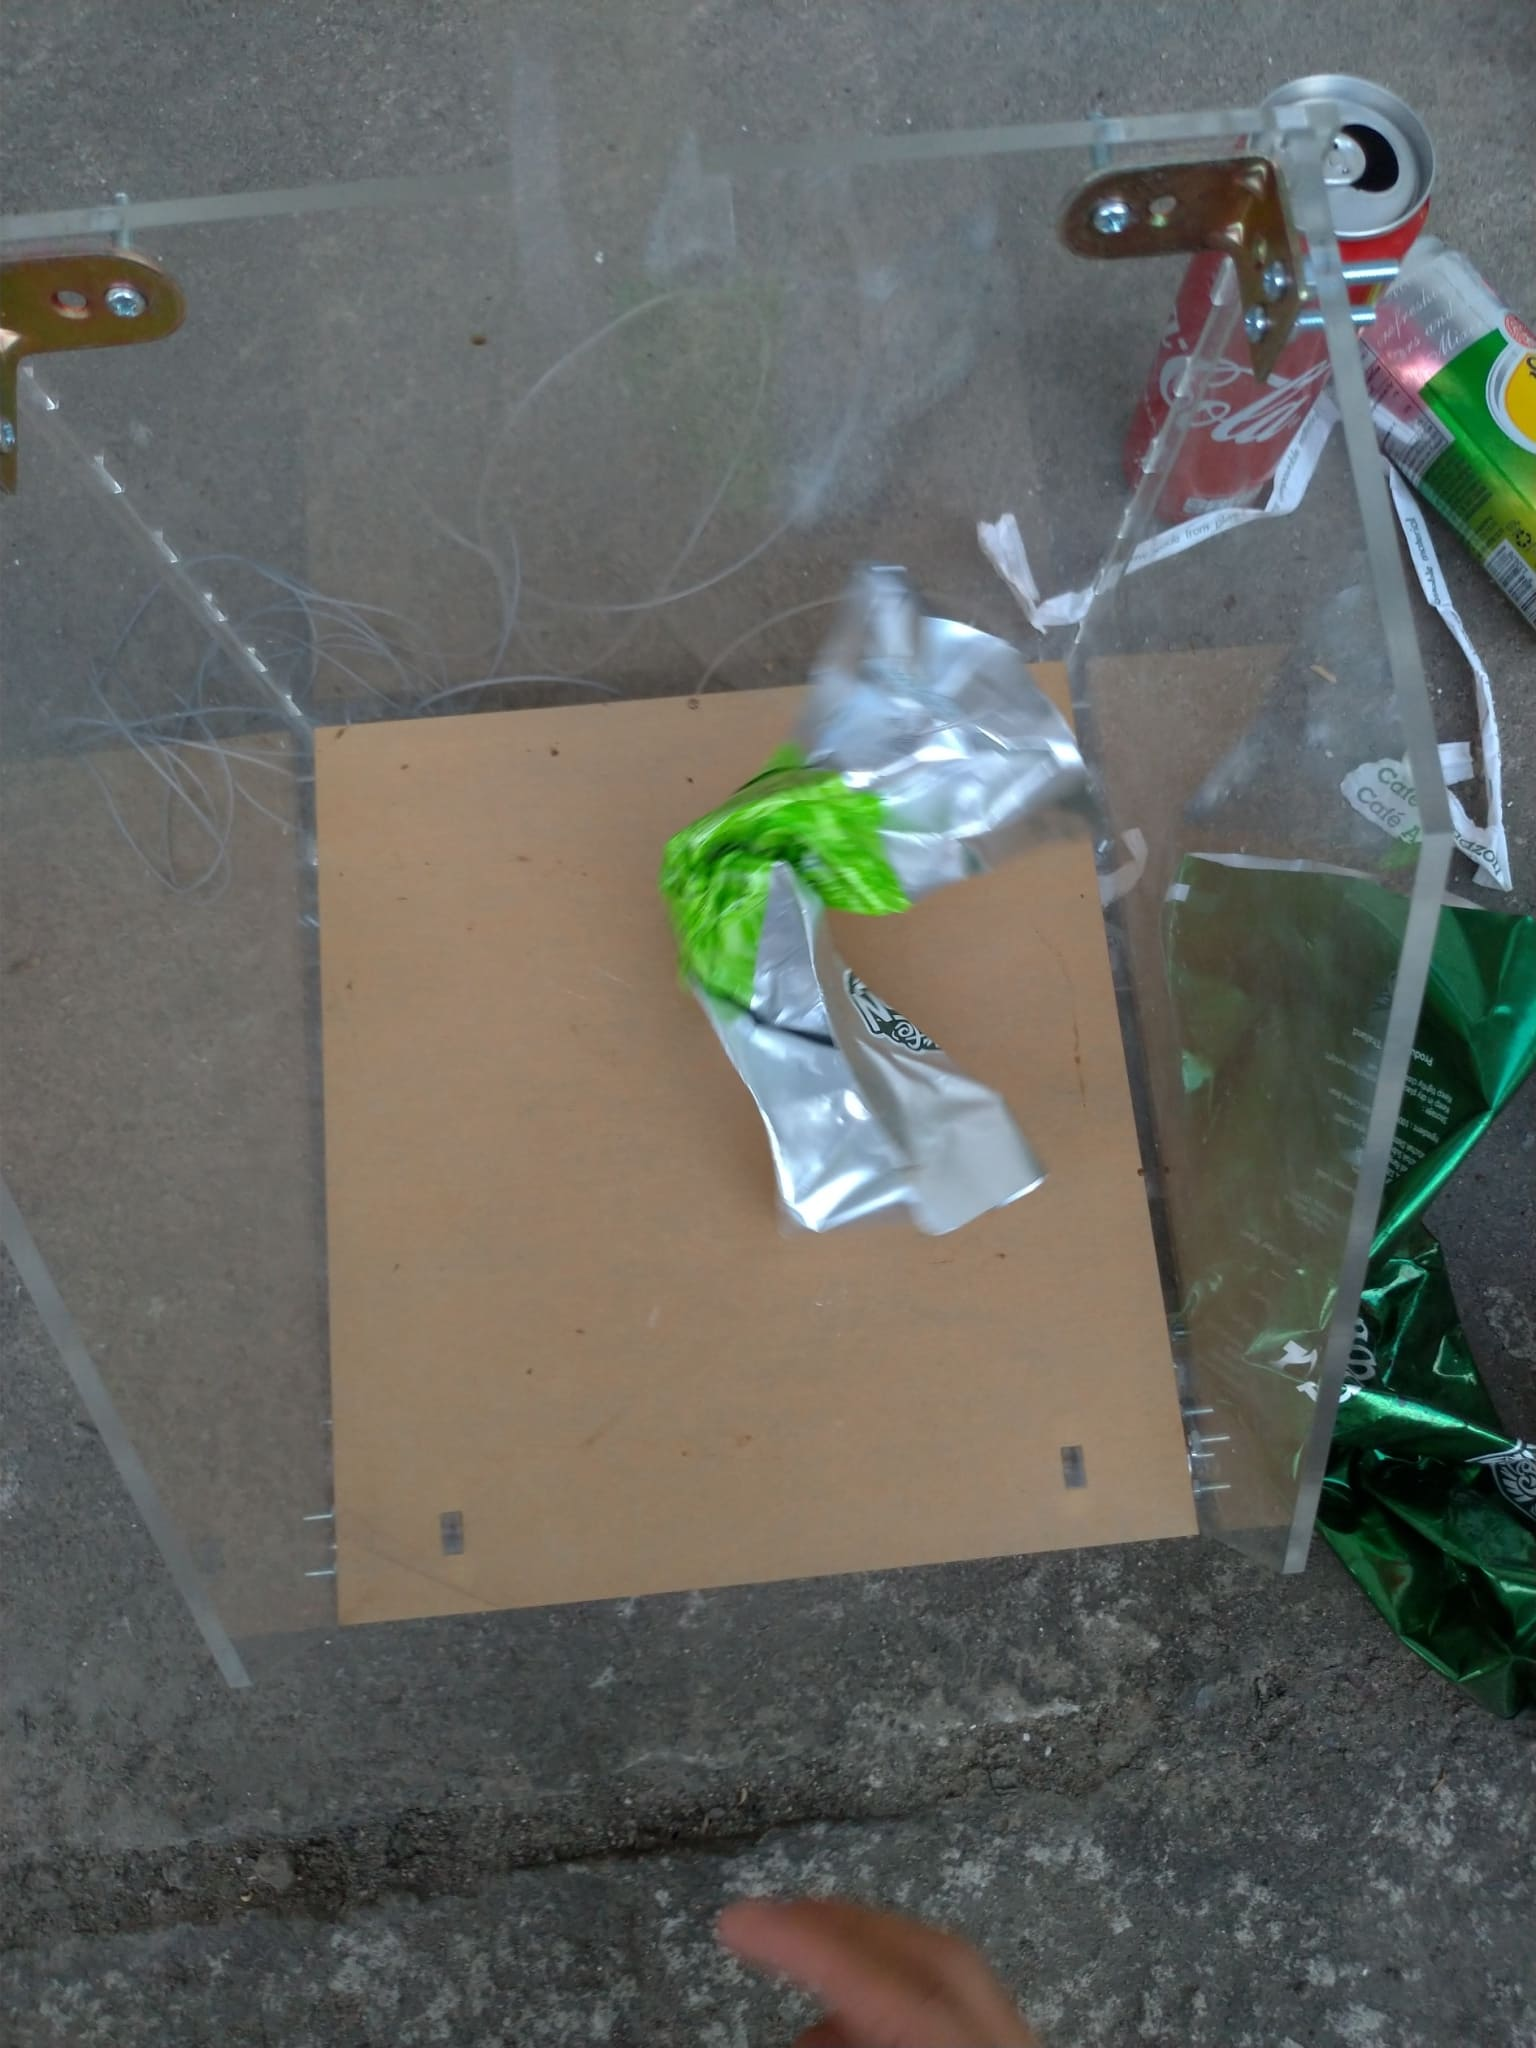AlCan: (1133, 77, 1438, 529), (1350, 235, 1536, 613)
Others: (1167, 868, 1536, 1705), (649, 568, 1100, 1238), (978, 397, 1334, 635), (1354, 477, 1518, 893)
